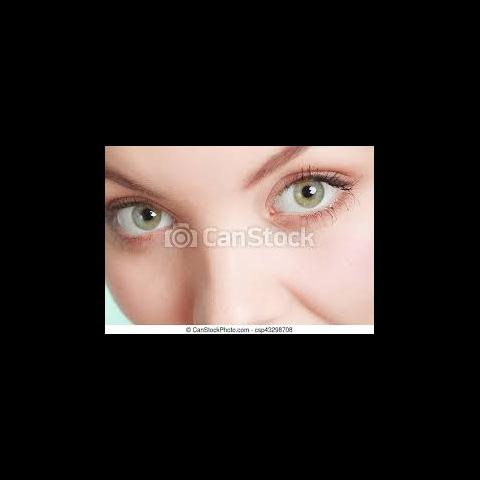opened: (108, 172, 352, 251)
